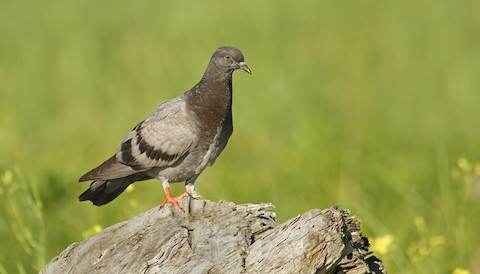pigeon: (77, 44, 254, 213)
